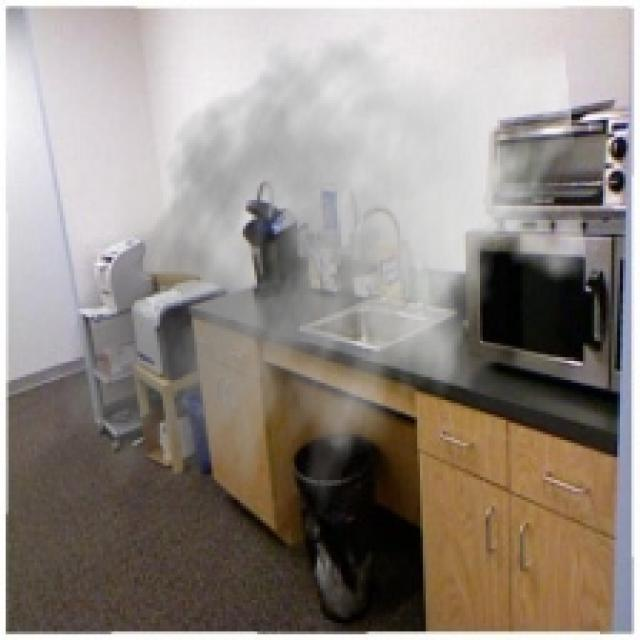Smoke: (57, 6, 589, 546)
